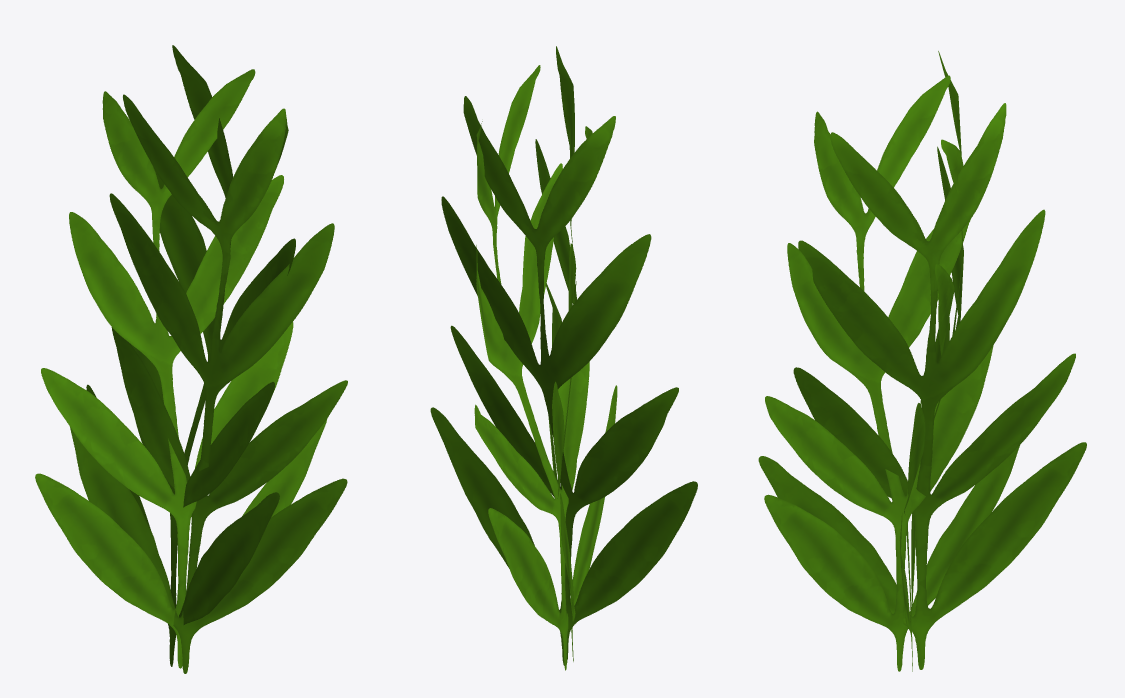
Rendered from Grass2.fbx.
3 renders of one model, left to right at view 1: azimuth 30°, elevation 25°; view 2: azimuth 150°, elevation 25°; view 3: azimuth 270°, elevation 25°, orthographic. The views are drawn at different scales.
Parts seen in each view (by area): view 1: Plane_Stylized27; view 2: Plane_Stylized27; view 3: Plane_Stylized27.
Part boxes in pixels (box(x1,y1,x2,y2)): Plane_Stylized27: box(35, 45, 347, 673); Plane_Stylized27: box(430, 46, 697, 670); Plane_Stylized27: box(758, 51, 1086, 671).
Size of the model in its own units: 6.75 by 12.95 by 6.9.
